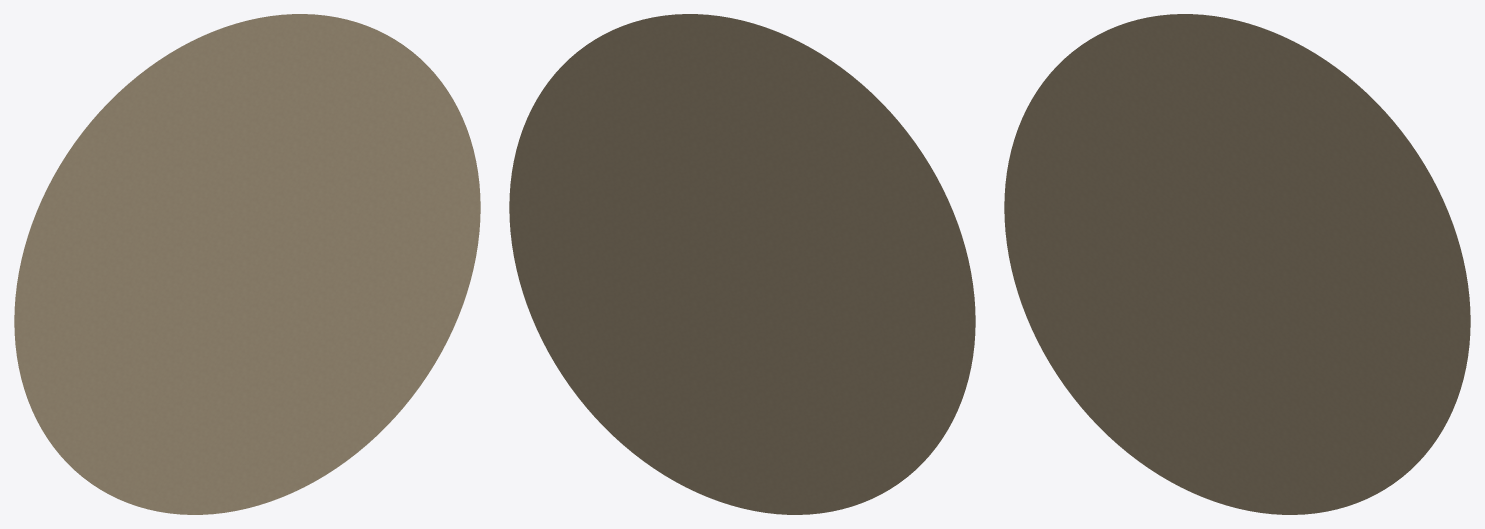
File: ButterflyBackground.gltf
3 renders of one model, left to right at view 1: azimuth 30°, elevation 25°; view 2: azimuth 150°, elevation 25°; view 3: azimuth 330°, elevation 25°, orthographic.
Parts seen in each view (by area): view 1: ButterflyBackground; view 2: ButterflyBackground; view 3: ButterflyBackground.
Part boxes in pixels (left/top/right/bottom): ButterflyBackground: left=14, top=14, right=480, bottom=514; ButterflyBackground: left=509, top=14, right=975, bottom=514; ButterflyBackground: left=1004, top=14, right=1470, bottom=514.
Bounding box in the file's own units: 2.21 × 2.21 × 9.54e-07.
1 material, 1 textured.
